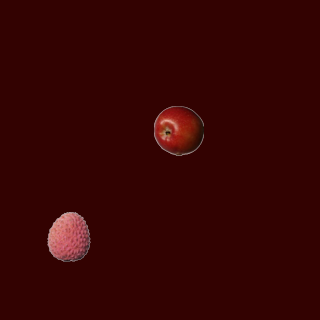Apple Braeburn: (153, 105, 203, 155)
Lychee: (43, 211, 93, 261)
